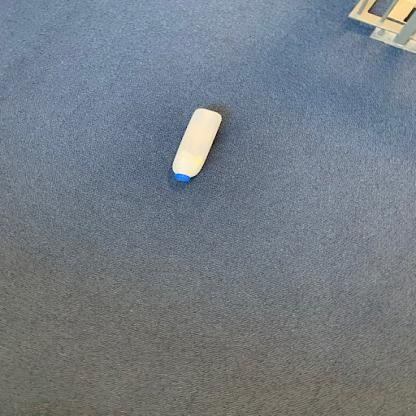trash: (169, 107, 223, 182)
